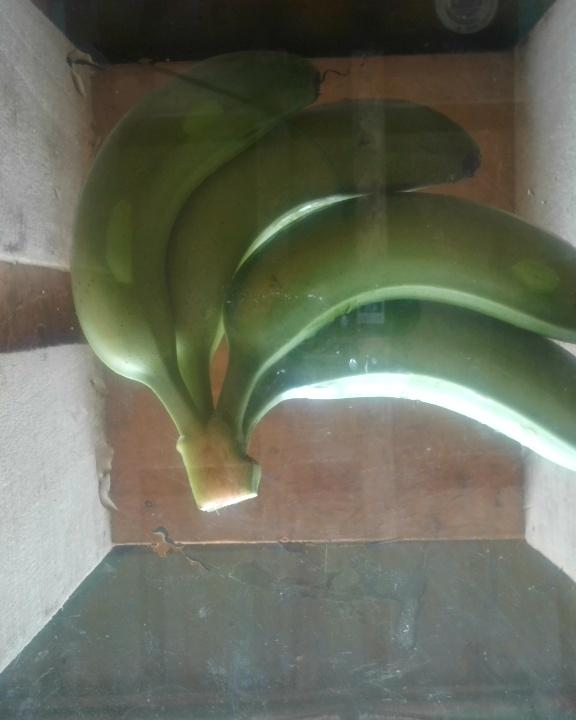SPOT: (61, 47, 576, 525)
